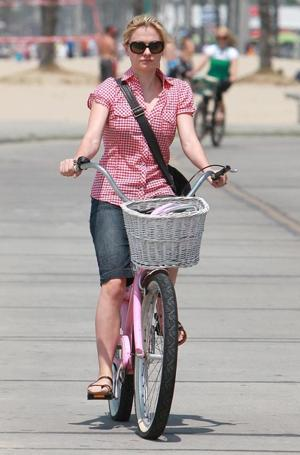person: (58, 15, 228, 397)
